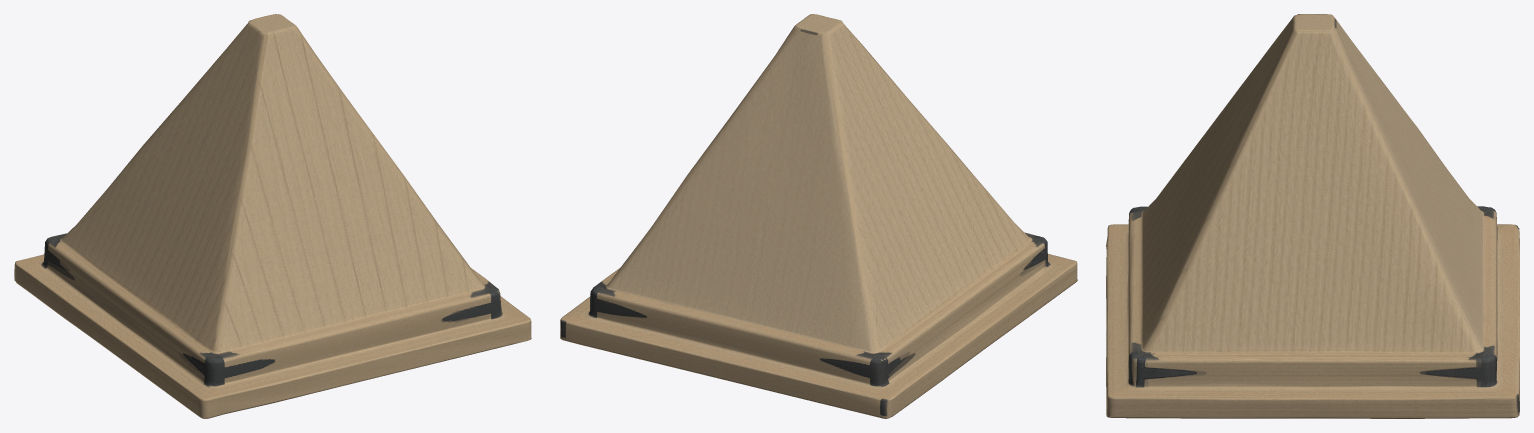
Rendered from arena_marker.glb.
3 views of the same model, side by side, from view 1: azimuth 30°, elevation 25°; view 2: azimuth 150°, elevation 25°; view 3: azimuth 270°, elevation 25° (orthographic). The views are drawn at different scales.
Visible parts, largest first — view 1: arena_marker; view 2: arena_marker; view 3: arena_marker.
Boxes of the visible parts, box(x1,y1,x2,y2) form: arena_marker: box(14, 14, 531, 418); arena_marker: box(560, 14, 1077, 418); arena_marker: box(1106, 14, 1519, 418).
Bounding box in the file's own units: 0.6663 × 0.55 × 0.6663.
1 material, 1 textured.
